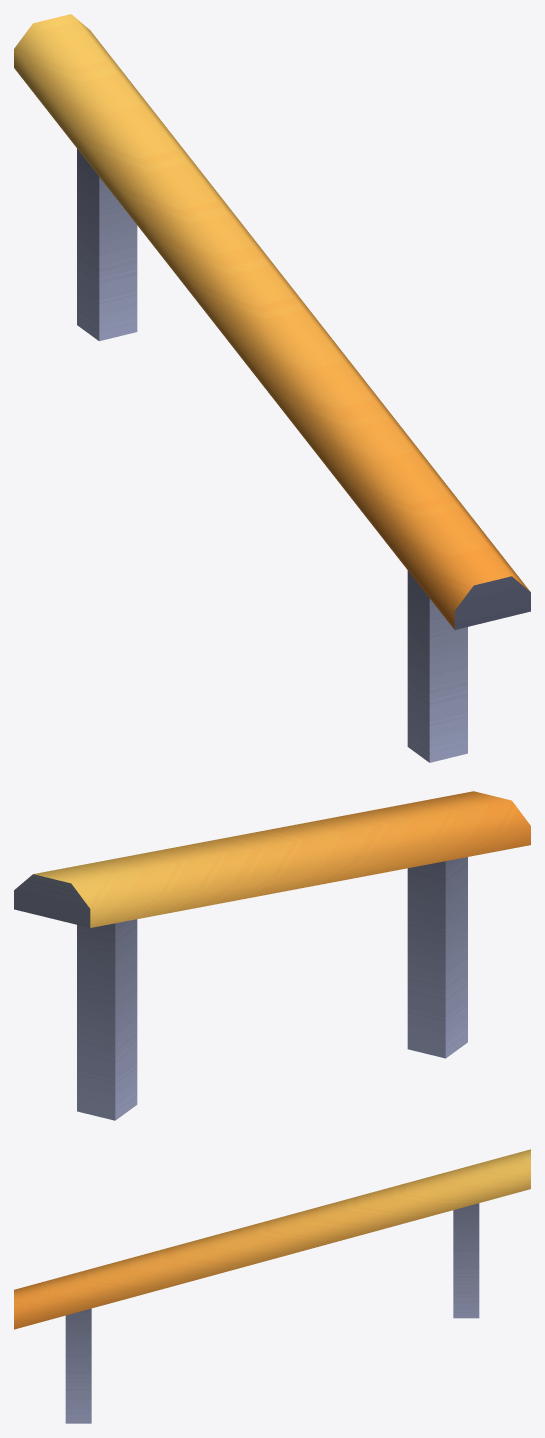
Rendered from stairs-handrail-single.glb.
The picture shows the model from 3 angles, top to bottom: view 1: azimuth 30°, elevation 25°; view 2: azimuth 150°, elevation 25°; view 3: azimuth 270°, elevation 25°; orthographic projection. The views are drawn at different scales.
Visible parts, largest first — view 1: stairs-handrail-single; view 2: stairs-handrail-single; view 3: stairs-handrail-single.
Part boxes in pixels (left/top/right/bottom): stairs-handrail-single: left=14, top=14, right=530, bottom=762; stairs-handrail-single: left=14, top=791, right=530, bottom=1120; stairs-handrail-single: left=14, top=1149, right=530, bottom=1423.
Bounding box in the file's own units: 0.1 × 0.5625 × 1.
1 material, 1 textured.
